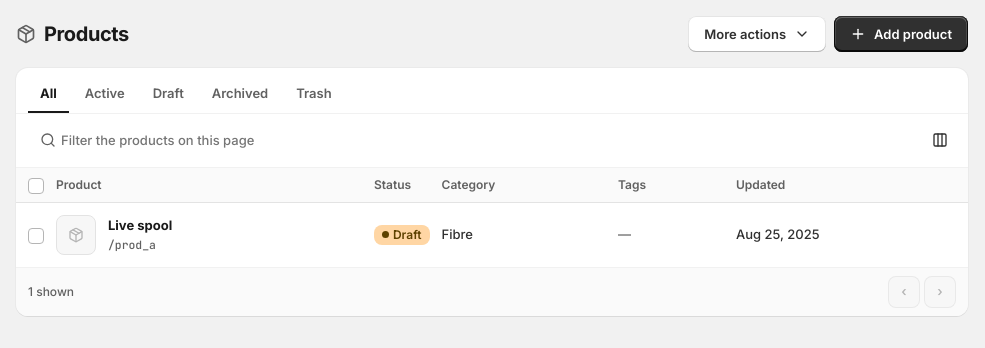
Test: the trash tab on the product list › keeps the ordinary actions on every other tab
The image size is (985, 348).
Expected: the link "Live spool" is shown, [108, 216, 172, 235]
Click the checkbox named "Select row" at (36, 236), box [28, 228, 44, 244]
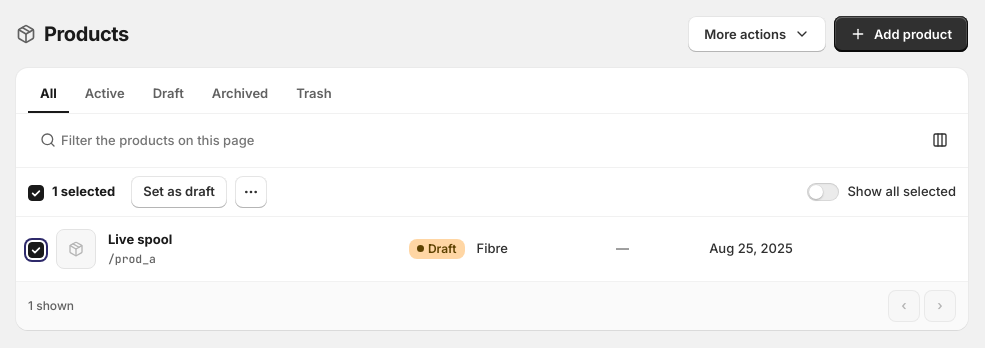
Result: the button "Set as draft" is shown at [131, 176, 227, 208]
Result: the button named "More bulk actions" is shown at [235, 176, 267, 208]
